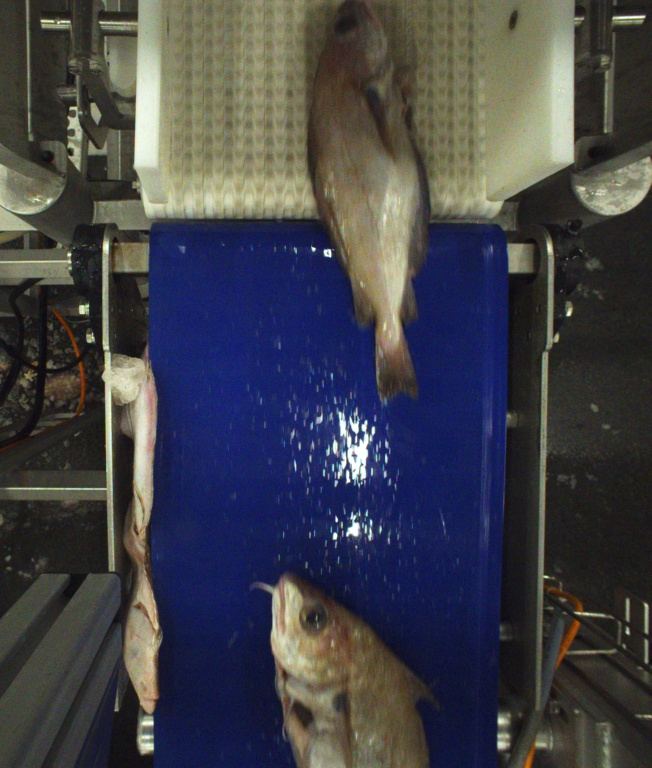BIB: (308, 1, 425, 406)
